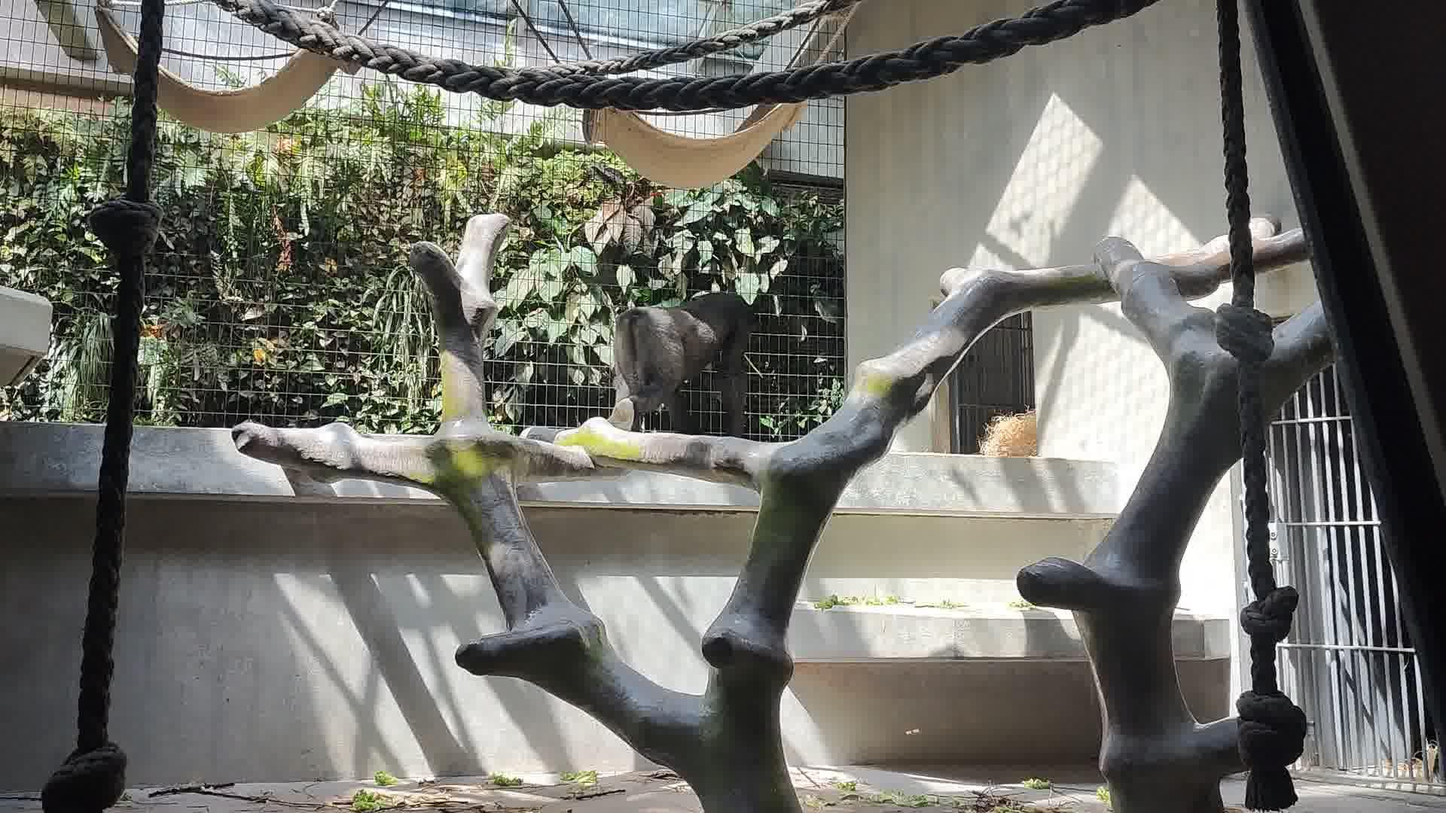boar: (607, 294, 754, 438)
